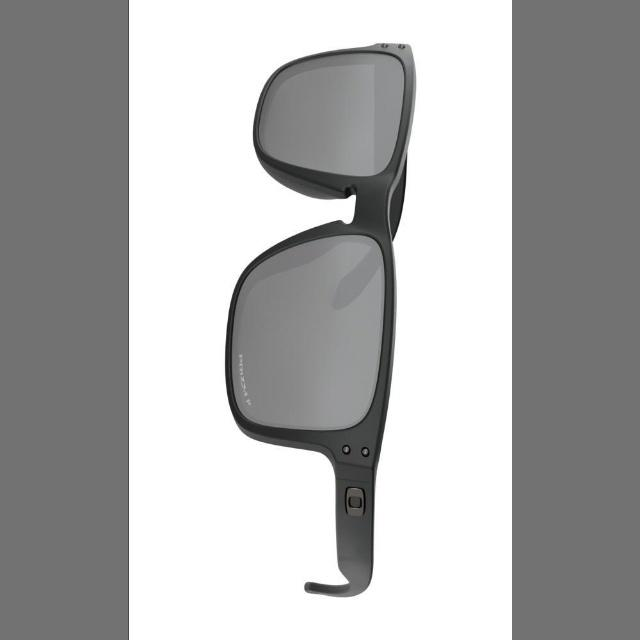Sunglasses: (215, 29, 450, 621)
